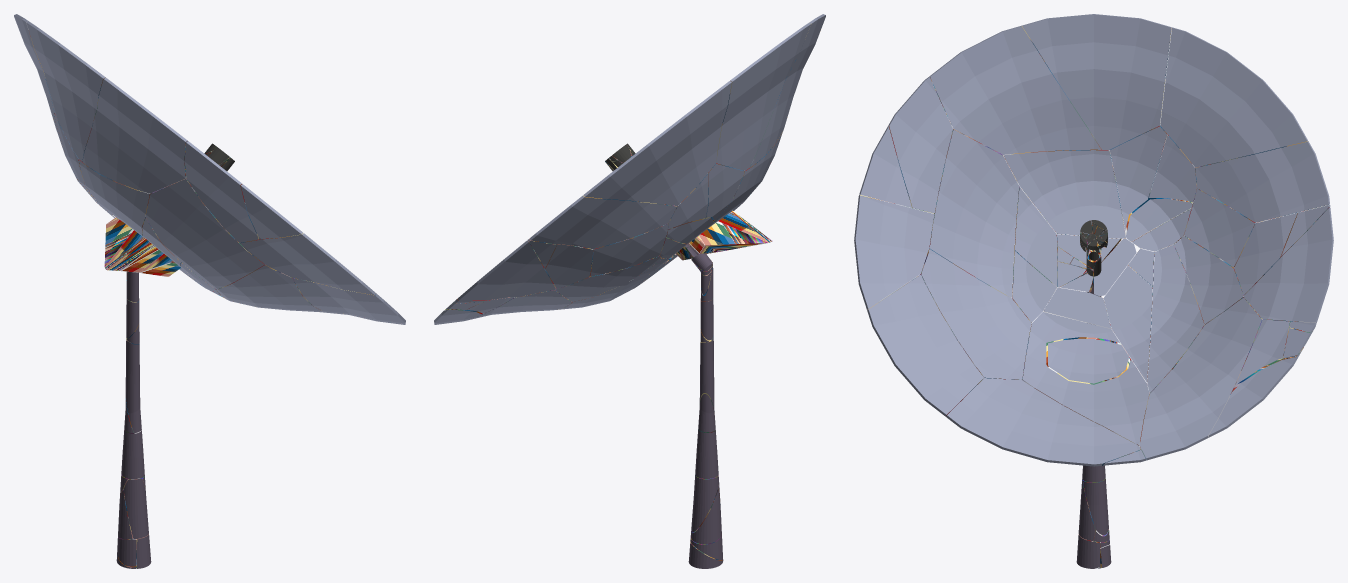
File: Antenna.fbx
The picture shows the model from 3 angles, left to right: view 1: azimuth 30°, elevation 25°; view 2: azimuth 150°, elevation 25°; view 3: azimuth 270°, elevation 25°; orthographic projection. The views are drawn at different scales.
Visible parts, largest first — view 1: Antenna_cell.024_cell.001, Antenna_cell.055, Antenna_cell.024_cell, Antenna_cell.023_cell.001, Antenna_cell.023_cell_cell, Antenna_cell.009, Antenna_cell.017, Antenna_cell.058, Antenna_cell, Antenna_cell.023_cell_cell.001, Antenna_cell.040, Antenna_cell.041 (+6 smaller); view 2: Antenna_cell.015, Antenna_cell.024_cell, Antenna_cell.011, Antenna_cell.025, Antenna_cell.031, Antenna_cell.024_cell.001, Antenna_cell, Antenna_cell.045_cell.001, Antenna_cell.038, Antenna_cell.052_cell, Antenna_cell.008, Antenna_cell.052_cell.001 (+10 smaller); view 3: Antenna_cell.024_cell, Antenna_cell.024_cell.001, Antenna_cell.015, Antenna_cell.055, Antenna_cell.008, Antenna_cell.033_cell, Antenna_cell.017, Antenna_cell.009, Antenna_cell.058, Antenna_cell.019, Antenna_cell.011, Antenna_cell.023_cell.001 (+25 smaller).
Boxes of the visible parts, x1,y1,x2,y2 form: Antenna_cell.024_cell.001: [82, 78, 187, 193]; Antenna_cell.055: [145, 178, 264, 289]; Antenna_cell.024_cell: [26, 21, 105, 161]; Antenna_cell.023_cell.001: [240, 233, 375, 295]; Antenna_cell.023_cell_cell: [184, 141, 258, 242]; Antenna_cell.009: [216, 265, 327, 312]; Antenna_cell.017: [293, 278, 405, 324]; Antenna_cell.058: [79, 159, 151, 237]; Antenna_cell: [104, 217, 153, 270]; Antenna_cell.023_cell_cell.001: [240, 184, 302, 239]; Antenna_cell.040: [125, 339, 141, 432]; Antenna_cell.041: [123, 478, 148, 539]; Antenna_cell.015: [583, 81, 731, 205]; Antenna_cell.024_cell: [716, 22, 811, 170]; Antenna_cell.011: [529, 195, 676, 249]; Antenna_cell.025: [457, 240, 555, 300]; Antenna_cell.031: [589, 223, 668, 276]; Antenna_cell.024_cell.001: [749, 14, 825, 167]; Antenna_cell: [688, 210, 772, 253]; Antenna_cell.045_cell.001: [544, 244, 593, 288]; Antenna_cell.038: [555, 256, 661, 301]; Antenna_cell.052_cell: [705, 163, 744, 222]; Antenna_cell.008: [455, 290, 571, 322]; Antenna_cell.052_cell.001: [667, 173, 708, 229]; Antenna_cell.024_cell: [1022, 14, 1171, 149]; Antenna_cell.024_cell.001: [929, 25, 1101, 154]; Antenna_cell.015: [1160, 27, 1307, 167]; Antenna_cell.055: [929, 129, 1019, 297]; Antenna_cell.008: [1139, 297, 1262, 460]; Antenna_cell.033_cell: [946, 378, 1140, 466]; Antenna_cell.017: [867, 274, 983, 416]; Antenna_cell.009: [920, 249, 1031, 379]; Antenna_cell.058: [1003, 149, 1125, 238]; Antenna_cell.019: [1022, 312, 1149, 445]; Antenna_cell.011: [1195, 141, 1329, 222]; Antenna_cell.023_cell.001: [854, 195, 934, 309].
Bounding box in the file's own units: 167 × 281 × 238.
